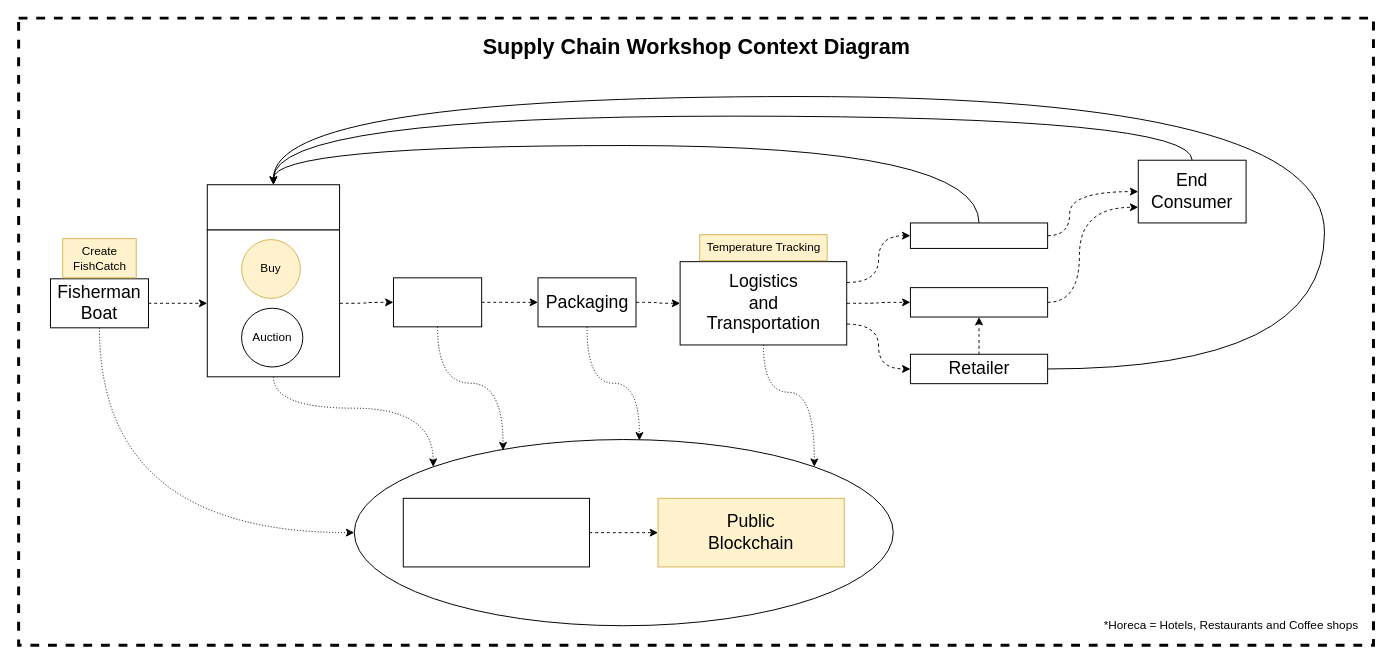
The diagram is 1392 pixels wide and 663 high, and some of its shapes have lost their labels. Each missing label, with the centre of its shape:
"Horeca*" goes at point (978, 235).
"Online Marketplace" goes at point (273, 207).
"Permissioned Blockchain" goes at point (495, 532).
"Point of Sell" goes at point (978, 302).
"Port Quality Control" goes at point (437, 302).
